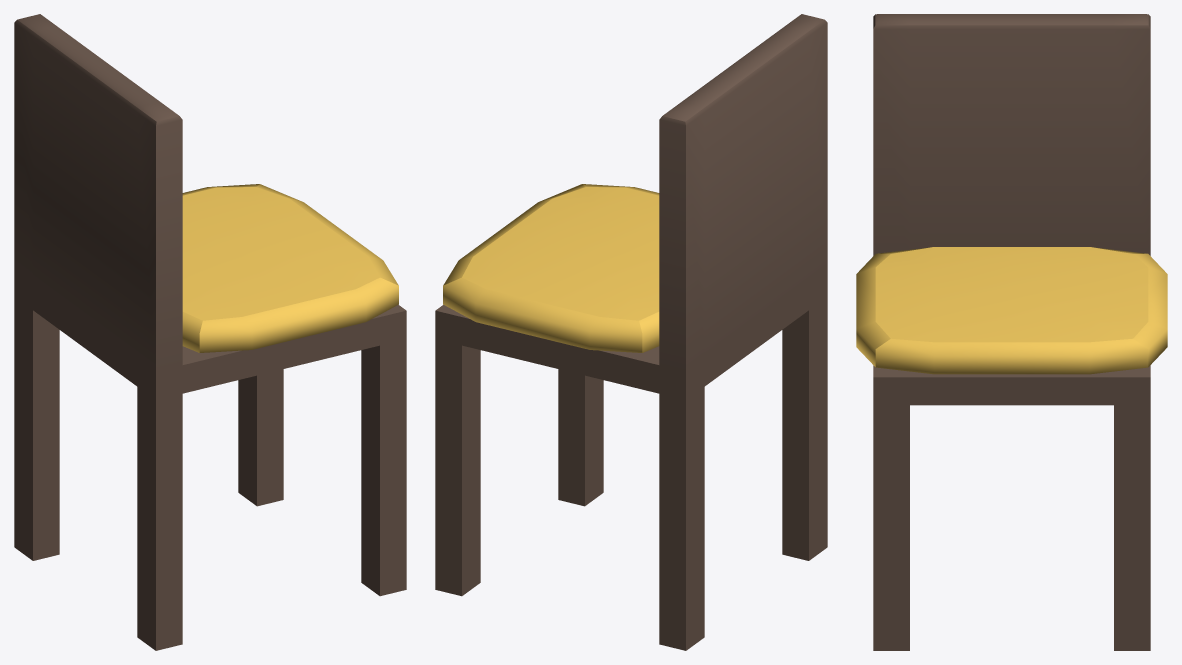
File: Cocina_Silla_18.fbx
3 views of the same model, side by side, from view 1: azimuth 30°, elevation 25°; view 2: azimuth 150°, elevation 25°; view 3: azimuth 270°, elevation 25° (orthographic). The views are drawn at different scales.
Visible parts, largest first — view 1: silla2; view 2: silla2; view 3: silla2.
Part boxes in pixels (box(x1,y1,x2,y2)): silla2: box(14, 14, 406, 650); silla2: box(435, 14, 827, 650); silla2: box(856, 14, 1167, 650).
Size of the model in its own units: 46.89 by 91.86 by 49.93.
Materials: 2 (2 with a texture image).
